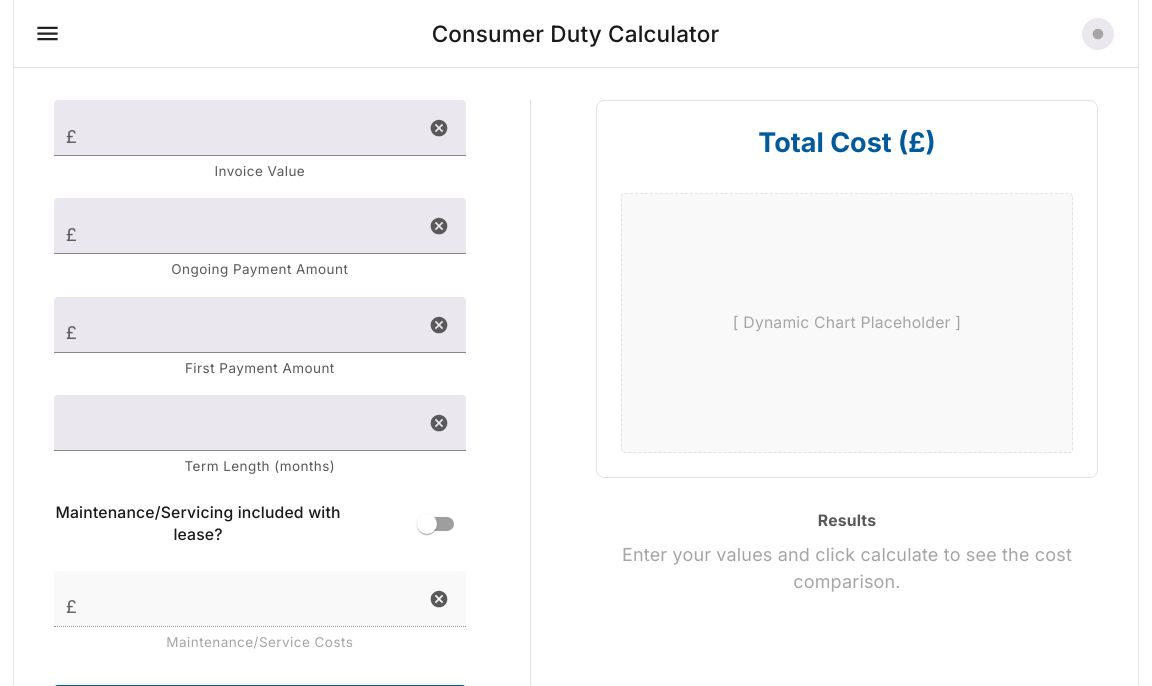
Test: Calculator UI & Maths Logic Suite › should include maintenance costs in the calculation when enabled
Step 1. Type "10000" into the number field named "Invoice Value" → (250, 128), box x1=85 y1=102 x2=416 y2=154
Step 2. Type "300" into the number field named "Ongoing Payment Amount" → (250, 226), box x1=85 y1=200 x2=416 y2=253
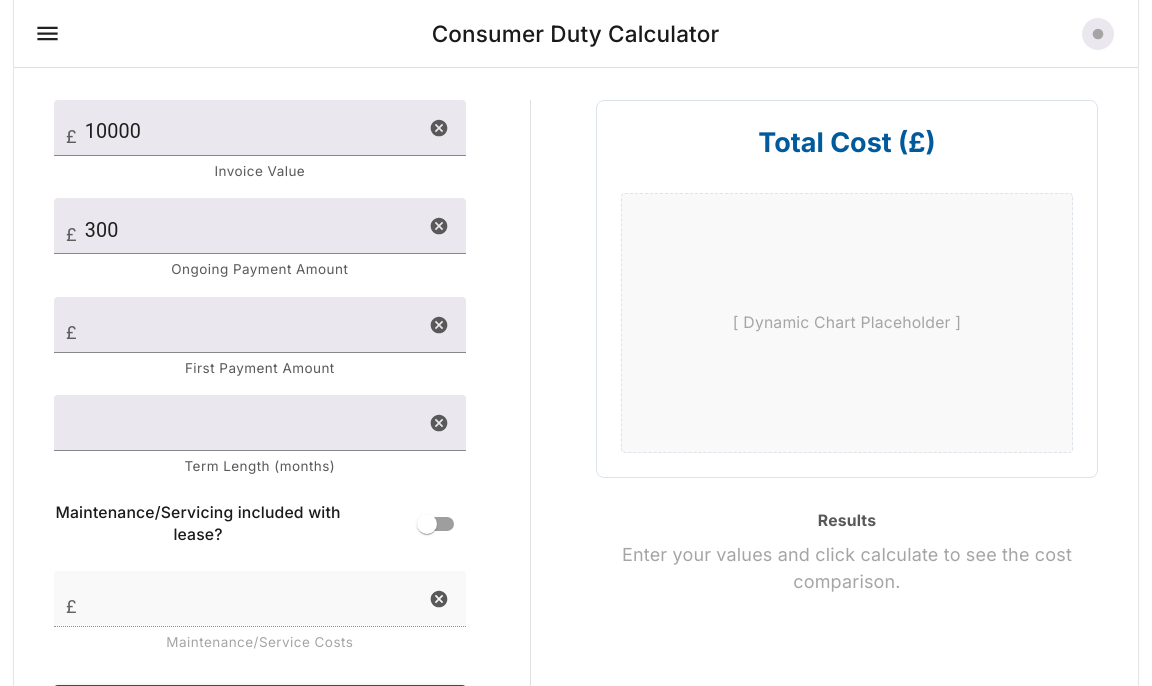
Step 3. Type "500" into the number field named "First Payment Amount" → (250, 325), box x1=85 y1=299 x2=416 y2=351
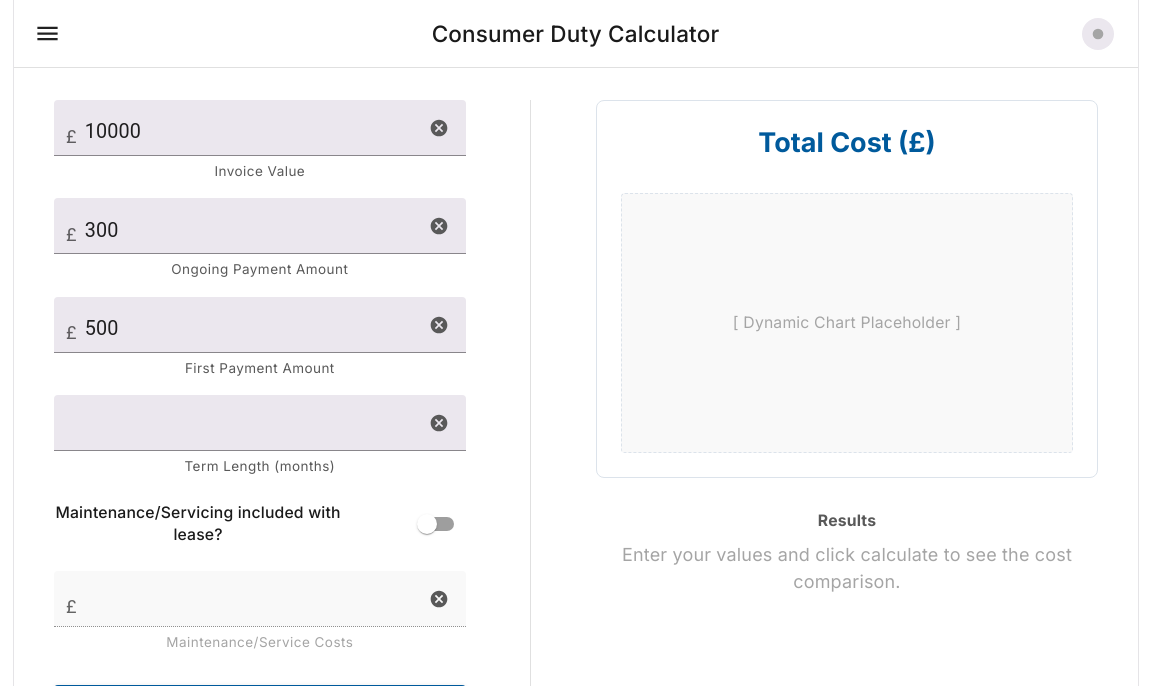
Step 4. Type "36" into the number field named "Term Length (months)" → (235, 423), box x1=54 y1=397 x2=416 y2=450
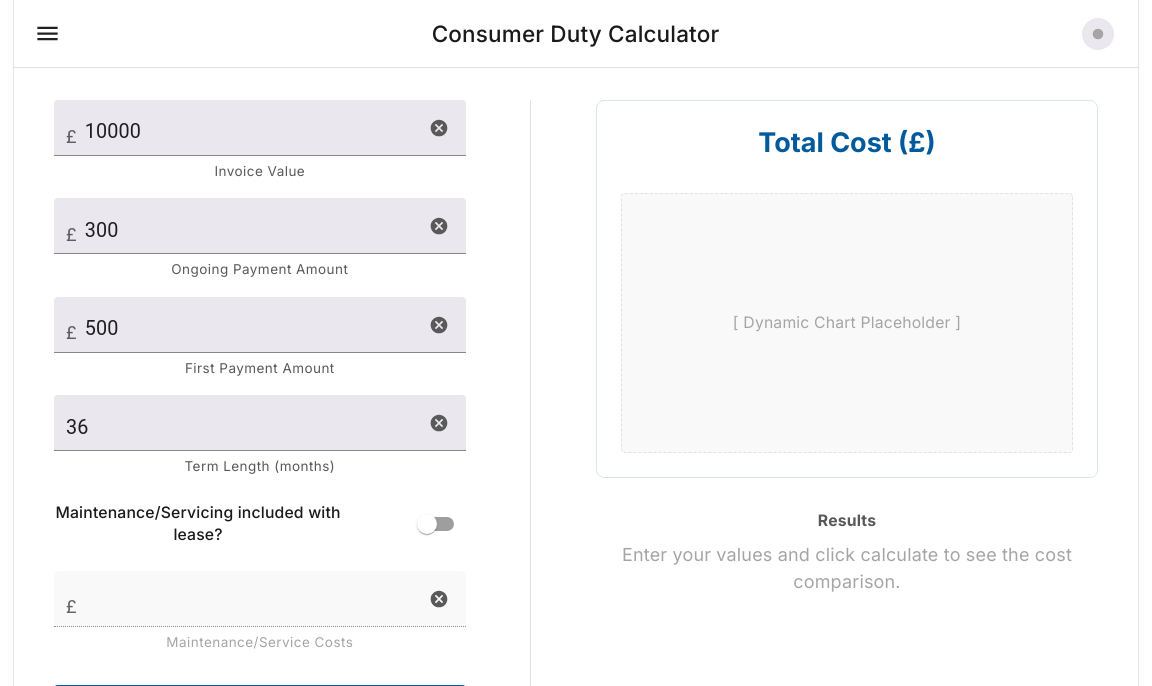
# Enable maintenance toggle
Step 5. Click the switch named "Maintenance/Servicing included with lease" → (427, 524), box x1=417 y1=514 x2=437 y2=534
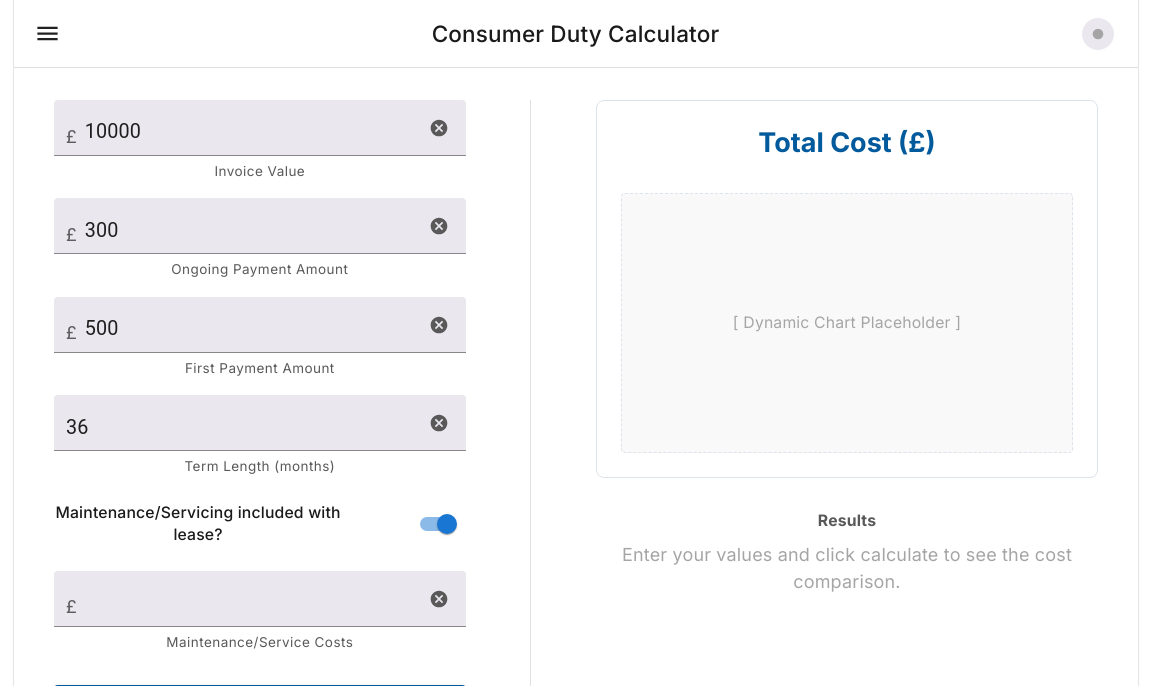
# Add maintenance
Step 6. Type "1500" into the number field named "Maintenance/Service Costs" → (250, 599), box x1=85 y1=572 x2=416 y2=625
(page scrolled)
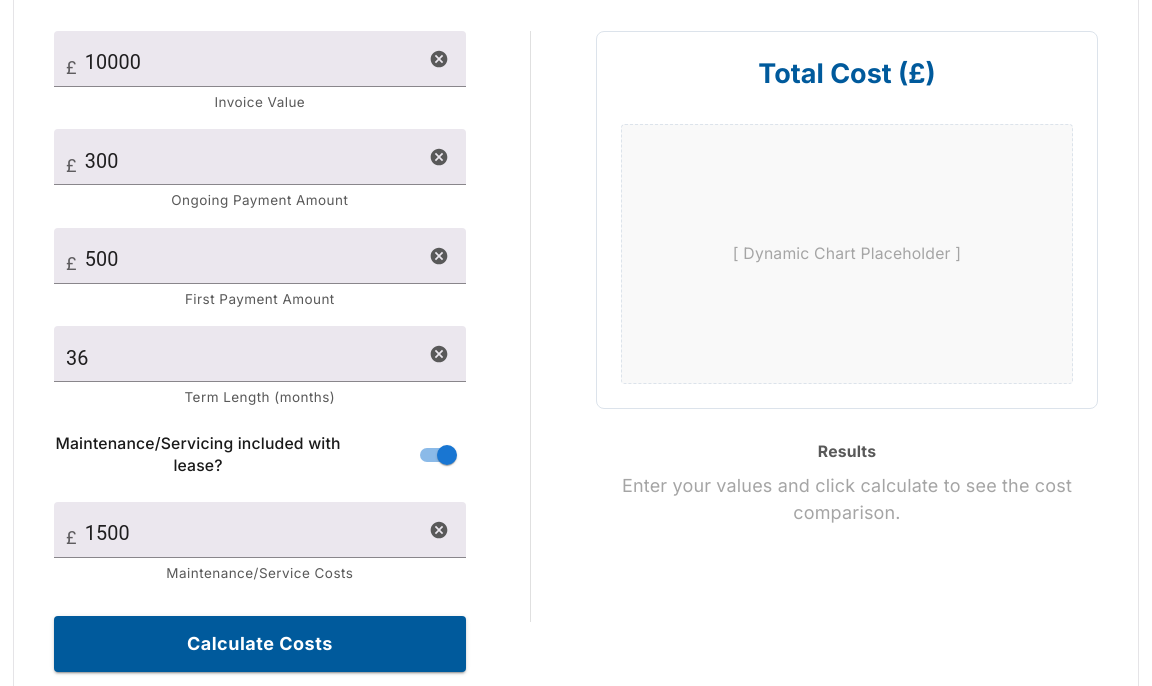
Step 7. Click the button "Calculate Costs" → (260, 644), box x1=54 y1=616 x2=466 y2=672
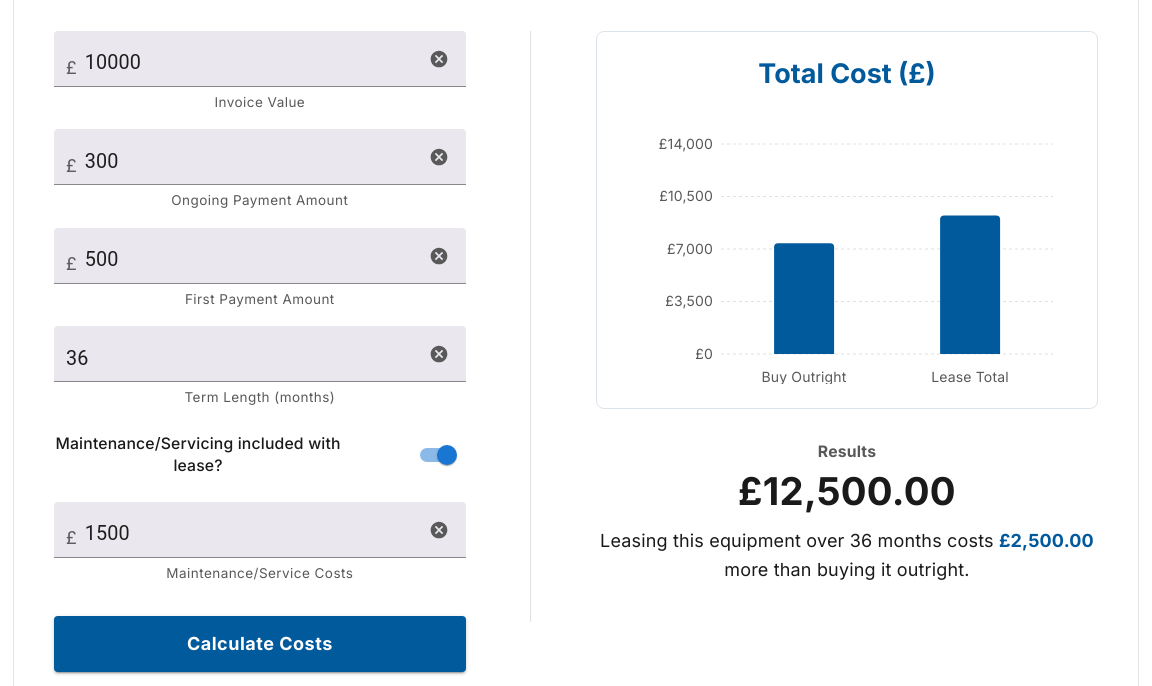
Expected: the heading "£12,500.00" is shown, x1=738 y1=468 x2=956 y2=514
Expected: the text "£2,500.00" is shown, x1=999 y1=530 x2=1094 y2=551
